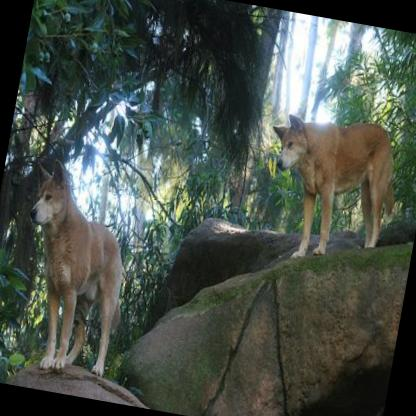dingo: (0, 151, 144, 377), (247, 102, 409, 276)
